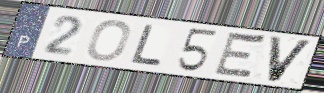2: (41, 15, 87, 58)
5: (175, 27, 221, 73)
E: (211, 29, 269, 82)
L: (129, 23, 165, 67)
O: (84, 19, 134, 63)
V: (266, 34, 316, 84)
